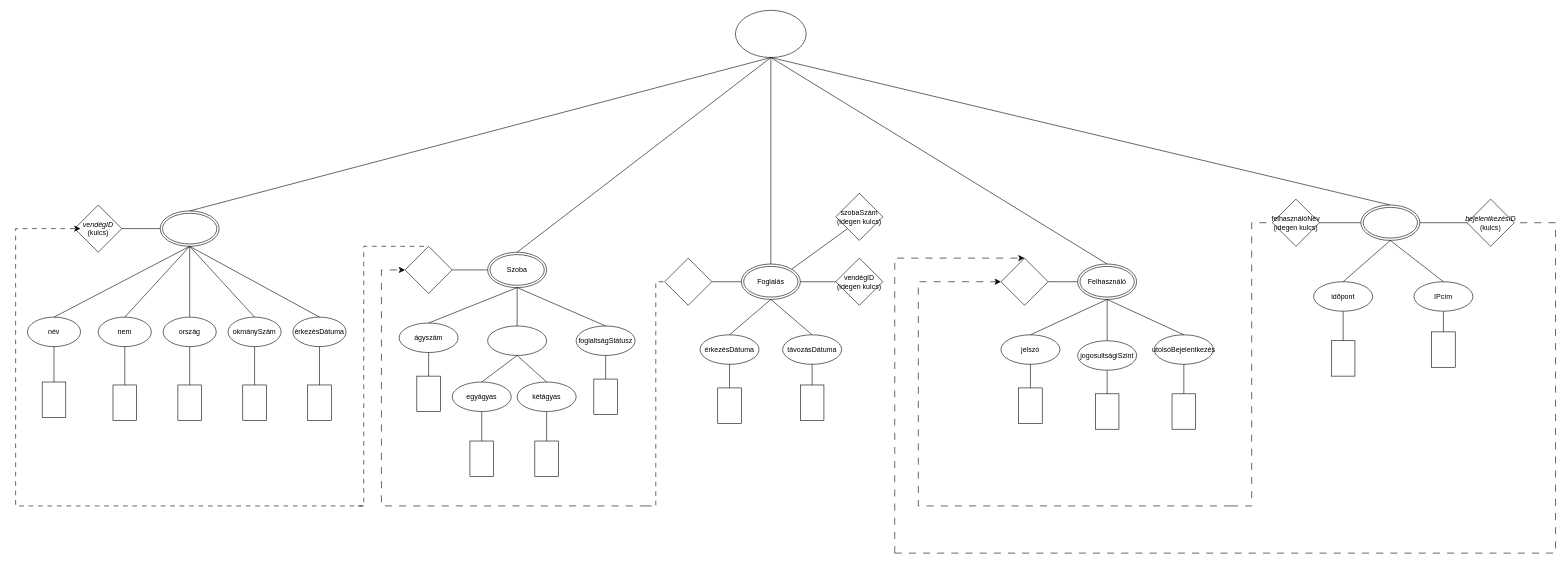
Some shapes in this 1566 by 569 pixel diagram are drawn without their labels. The centre of each missing label's shape, as x and y in pixels:
Bejlentkezés: the point at 1390,222
felhasználóNév (kulcs): the point at 1024,281
foglalásID (kulcs): the point at 688,281
Hotel: the point at 770,34
szobaSzám (kulcs): the point at 428,270
típus: the point at 517,340
Vendég: the point at 189,228
